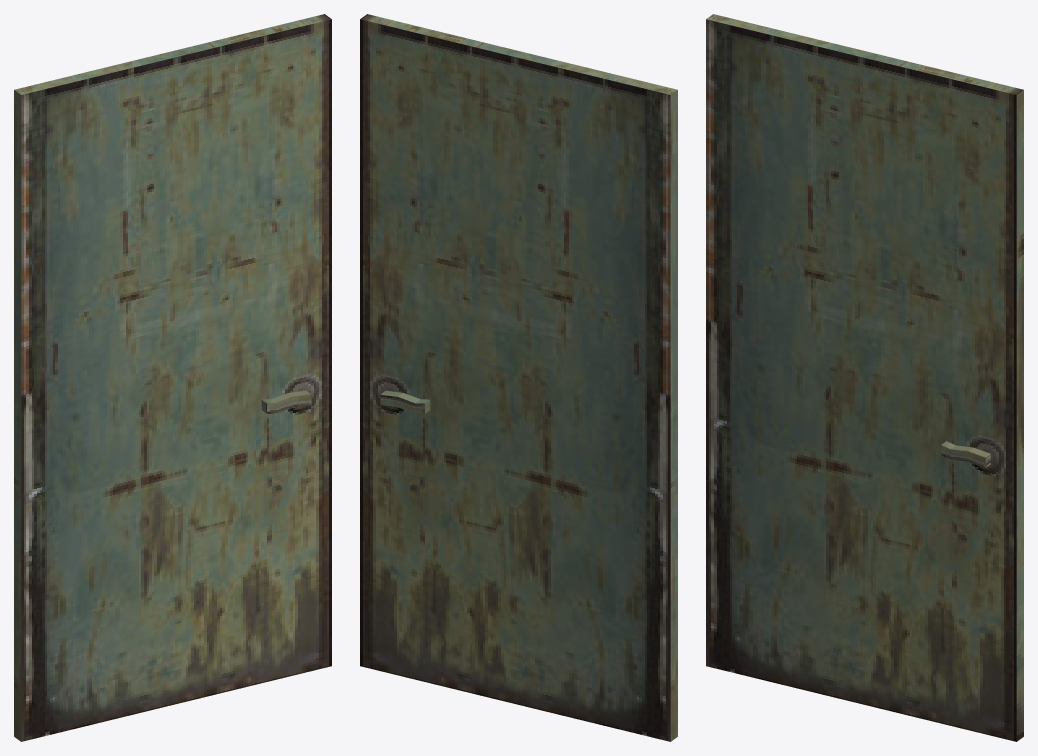
Rendered from door1.glb.
3 renders of one model, left to right at view 1: azimuth 30°, elevation 25°; view 2: azimuth 150°, elevation 25°; view 3: azimuth 330°, elevation 25°, orthographic.
Visible parts, largest first — view 1: door1; view 2: door1; view 3: door1.
Part boxes in pixels (<box>): door1: <box>14,14,331,741</box>; door1: <box>360,14,677,741</box>; door1: <box>706,14,1023,741</box>.
Size of the model in its own units: 1 by 1.99 by 0.1.
Materials: 1 (1 with a texture image).
